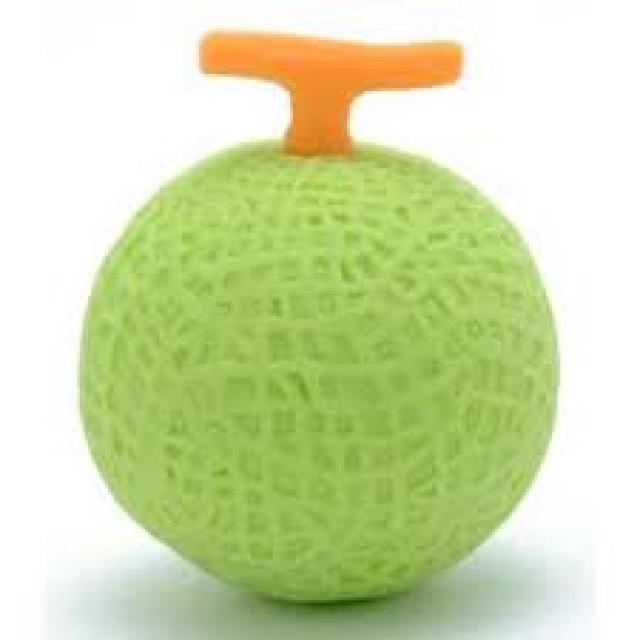Organik: (90, 23, 555, 598)
